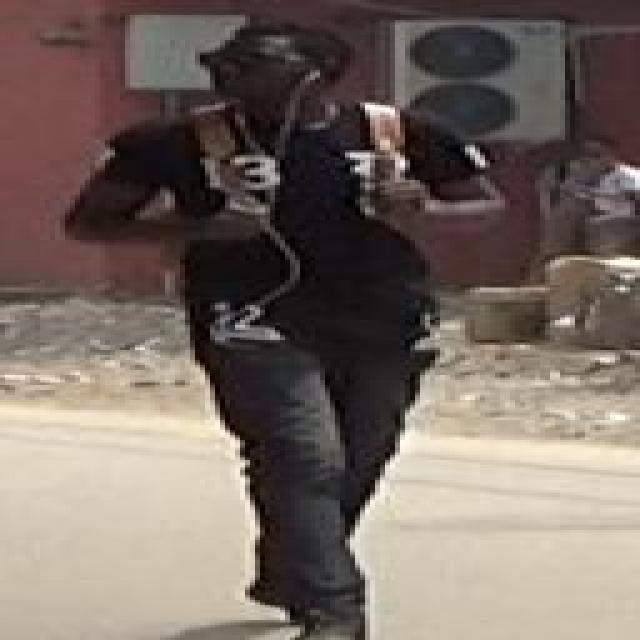adult: (48, 22, 511, 640), (534, 131, 640, 280)
